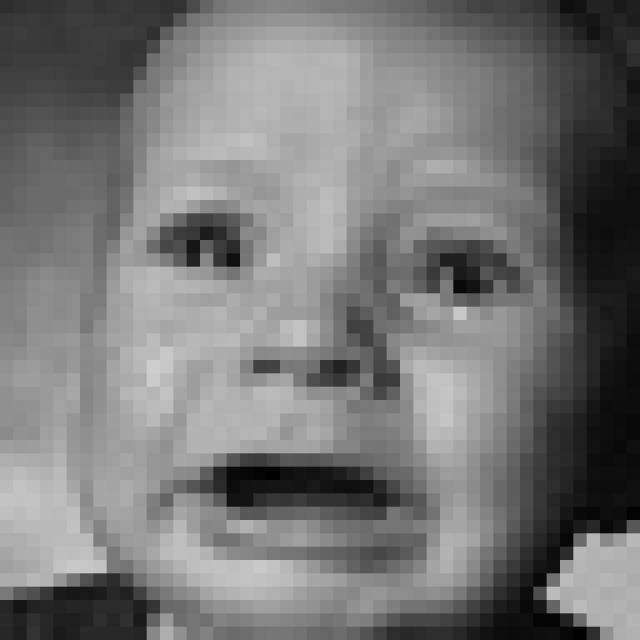sad: (130, 153, 563, 578)
